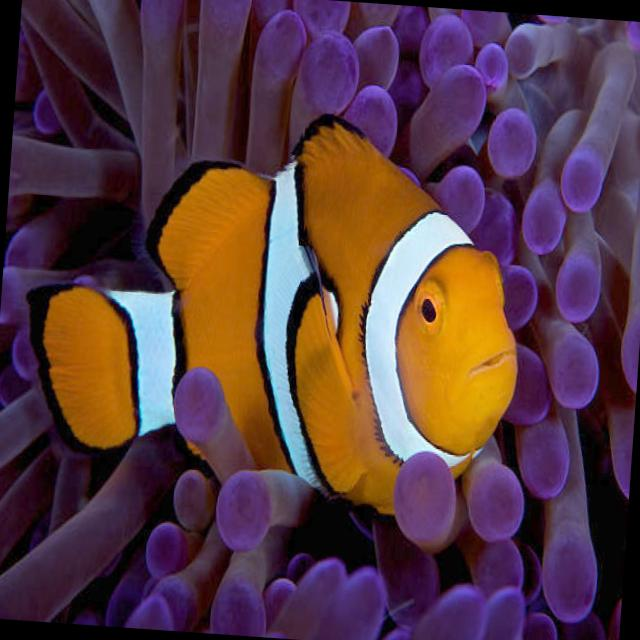ClownFish: (19, 92, 534, 523)
